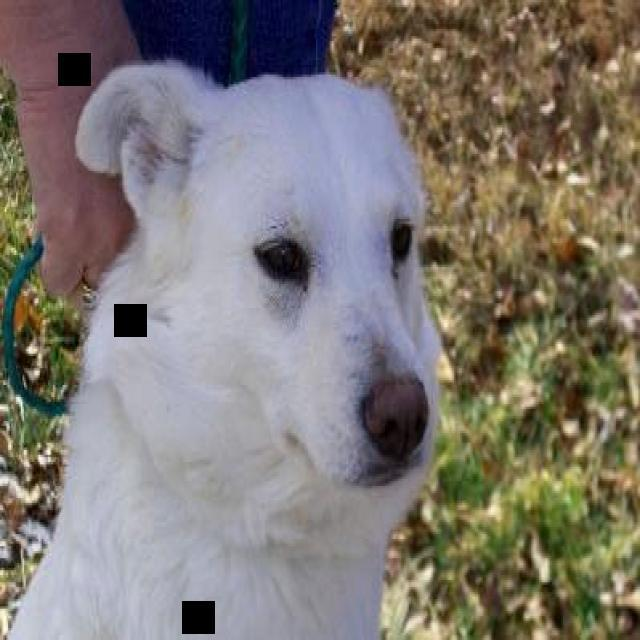adult_dog: (9, 59, 441, 640)
